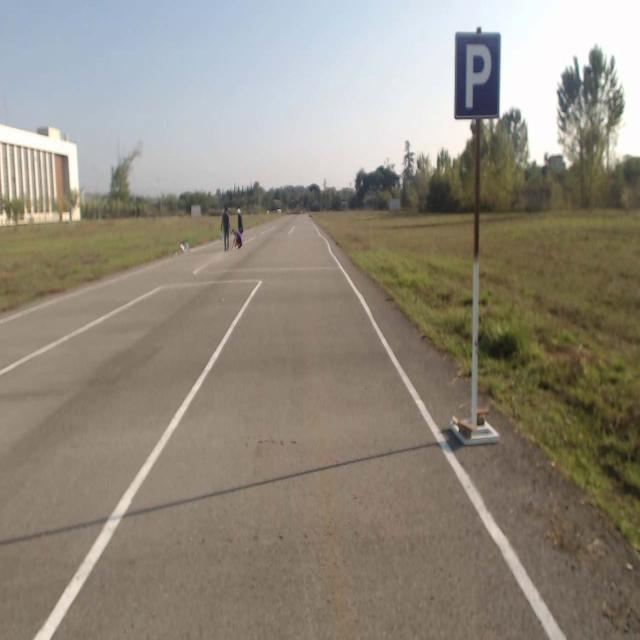park: (457, 34, 501, 118)
